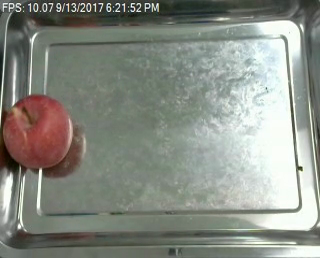Apple: (0, 90, 77, 171)
